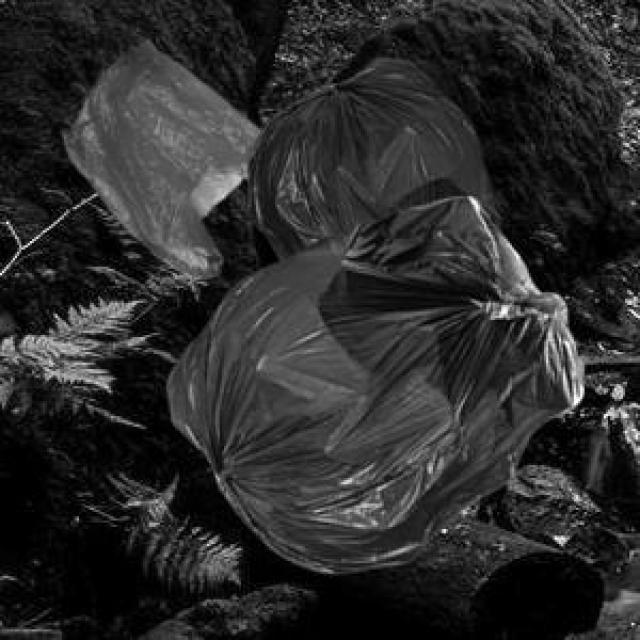miscellaneous trash: (162, 192, 580, 570), (245, 56, 497, 258)
